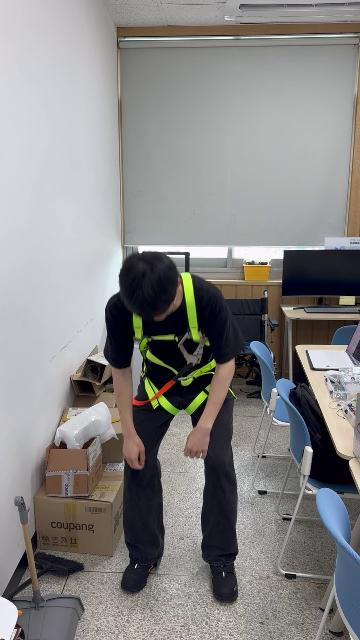helmet_not_worn: (113, 250, 182, 318)
shoe_worn: (121, 558, 162, 592), (209, 565, 238, 602)
vest_worn: (129, 274, 225, 414)
